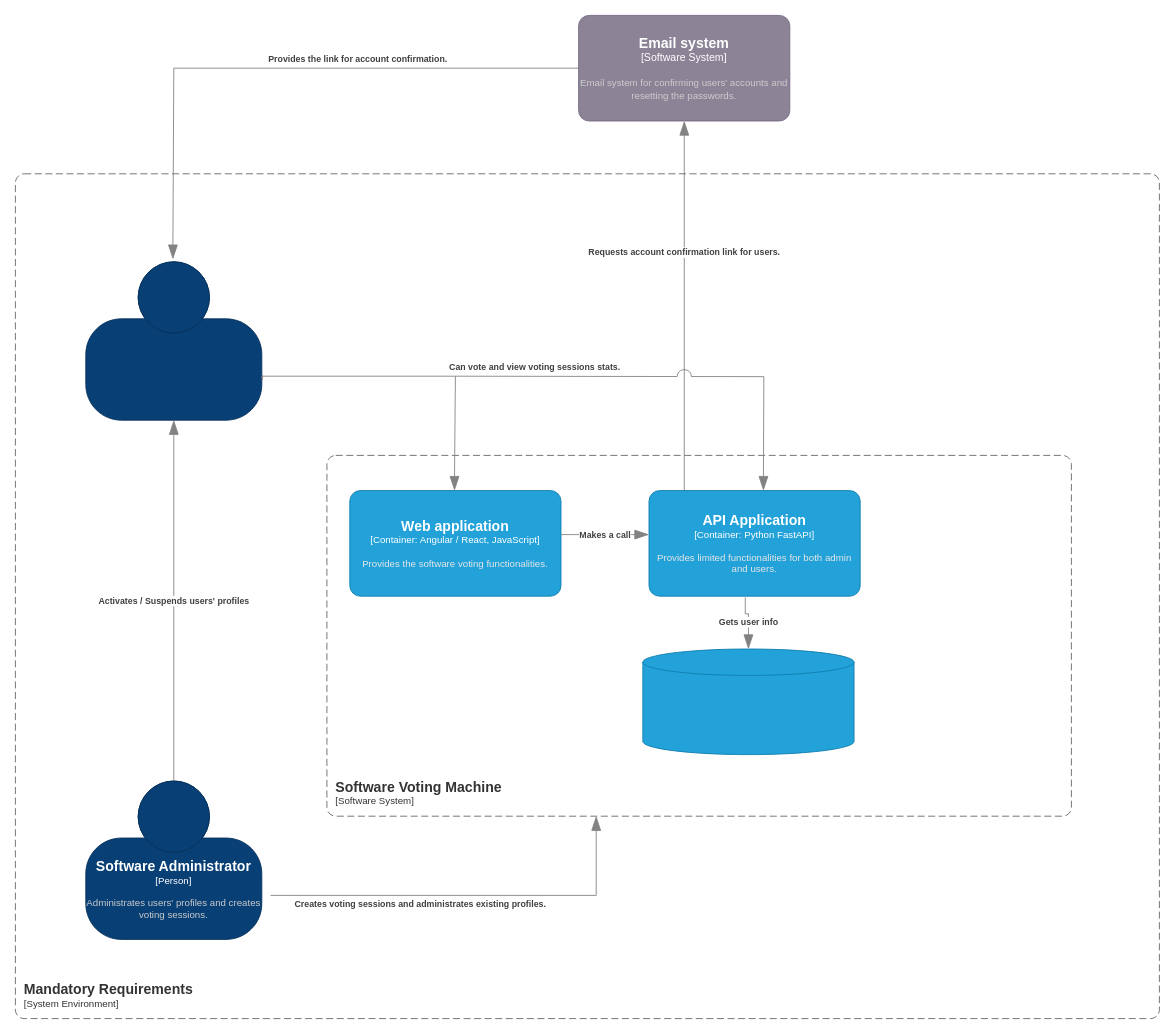
The diagram is 1175 pixels wide and 1034 high, and some of its shapes have lost their labels. The shapes that lost their labels are listed below. From the top down, each one's centre as x and y in pixels, then its label:
(173,340): Voter [Person] Person who wants to vote within an organization
(748,701): Database [Container: MySQL] Stores registration information.
